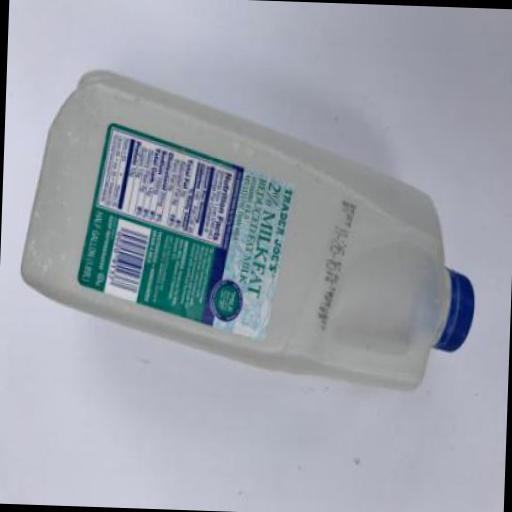plastic: (14, 64, 480, 390), (434, 265, 475, 352)
